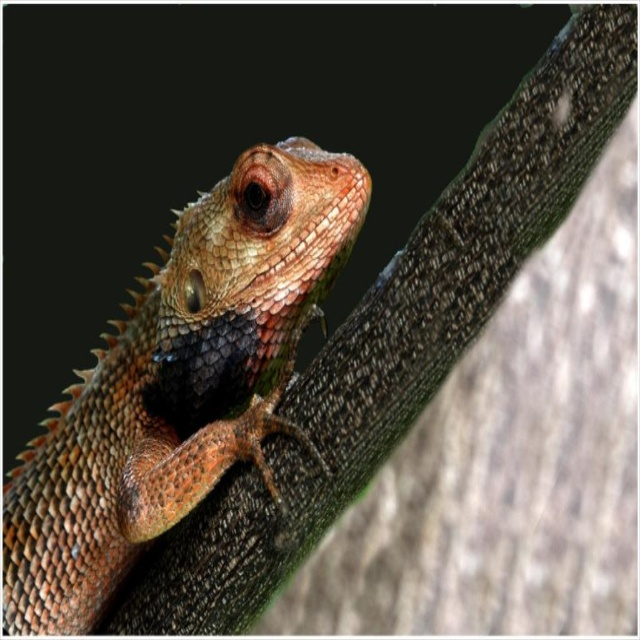Lizard: (14, 107, 382, 640)
